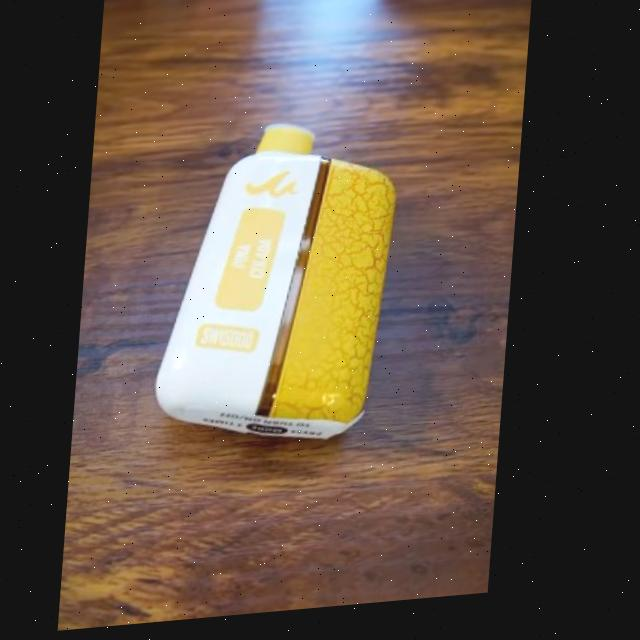vape: (158, 119, 406, 461)
